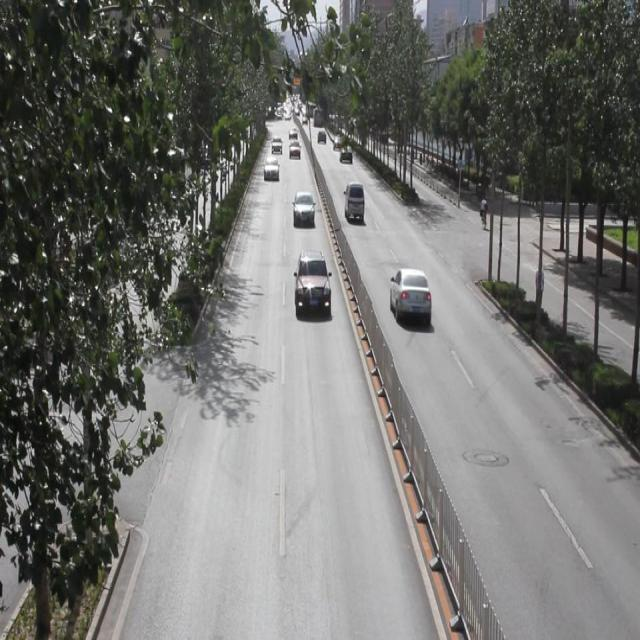car: (389, 267, 430, 323), (294, 250, 331, 312), (292, 189, 314, 227), (262, 156, 278, 182), (339, 144, 354, 162), (287, 138, 300, 158), (270, 135, 283, 154), (316, 126, 327, 144), (333, 133, 343, 151), (287, 125, 299, 139)
truck: (344, 180, 364, 219)
